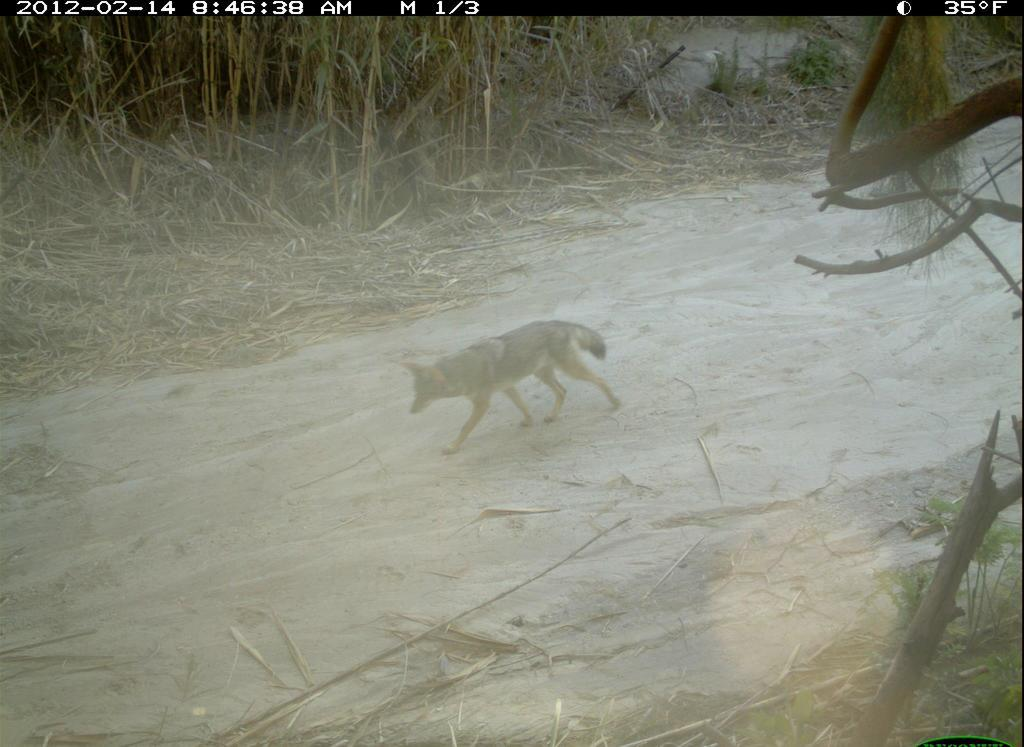coyote: (395, 310, 635, 461)
